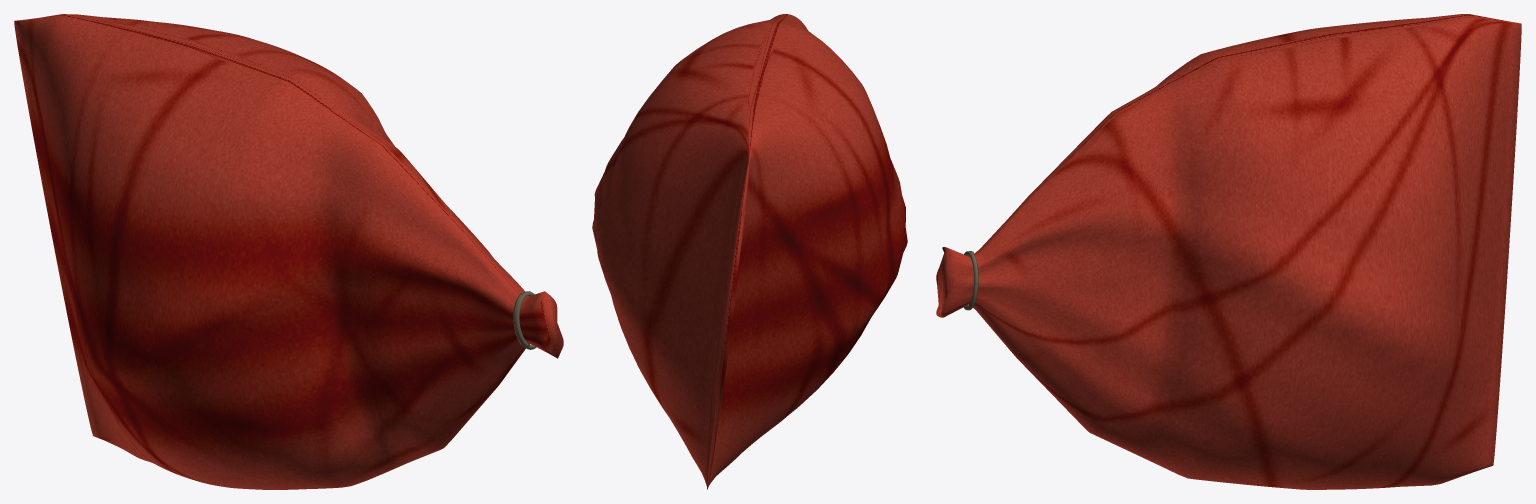
Rendered from peach_01_020.glb.
3 views of the same model, side by side, from view 1: azimuth 30°, elevation 25°; view 2: azimuth 150°, elevation 25°; view 3: azimuth 270°, elevation 25° (orthographic). The views are drawn at different scales.
Visible parts, largest first — view 1: export_Tree01/shoot0_10_1/bag; view 2: export_Tree01/shoot0_10_1/bag; view 3: export_Tree01/shoot0_10_1/bag.
Boxes of the visible parts, bbox=[...] form: export_Tree01/shoot0_10_1/bag: bbox=[14, 14, 563, 489]; export_Tree01/shoot0_10_1/bag: bbox=[592, 14, 907, 489]; export_Tree01/shoot0_10_1/bag: bbox=[936, 14, 1521, 489].
Size of the model in its own units: 0.0888 by 0.1231 by 0.1471.
Materials: 4 (1 with a texture image).
